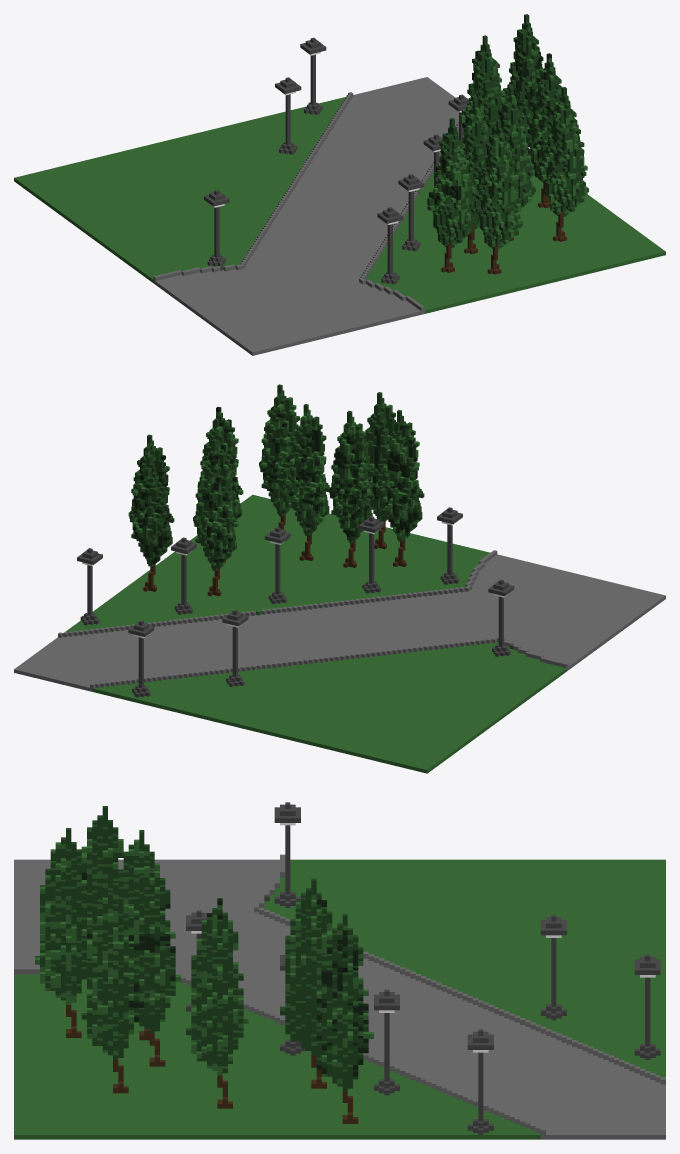
Rendered from haikei1.obj.
3 views of the same model, one above another, from view 1: azimuth 30°, elevation 25°; view 2: azimuth 150°, elevation 25°; view 3: azimuth 270°, elevation 25° (orthographic). The views are drawn at different scales.
Size of the model in its own units: 12.5 by 4.5 by 12.5.
